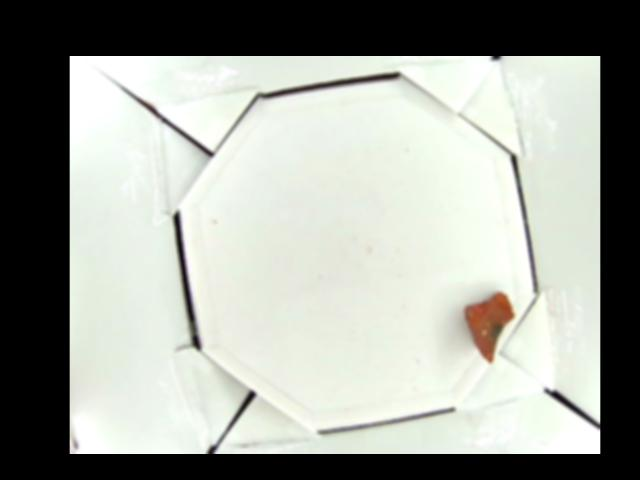Brisk: (461, 291, 515, 363)
